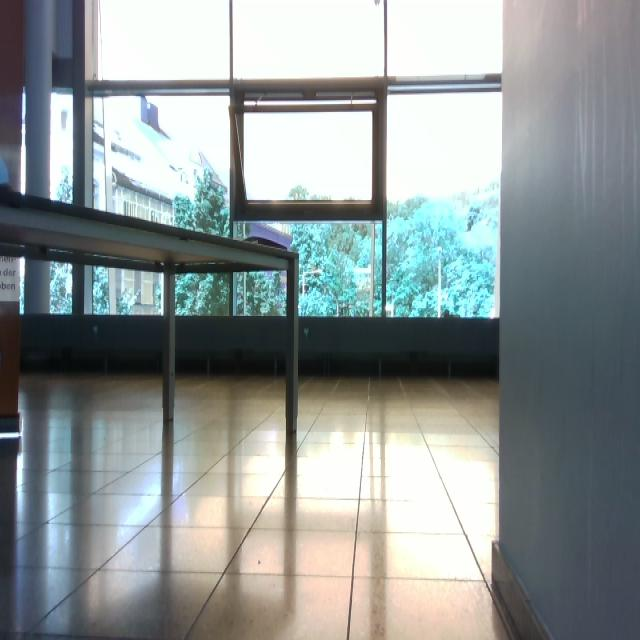light bulb: (329, 430, 345, 449)
pillar: (493, 1, 640, 640)
table: (2, 183, 303, 439)
tiled floor: (2, 372, 512, 638)
